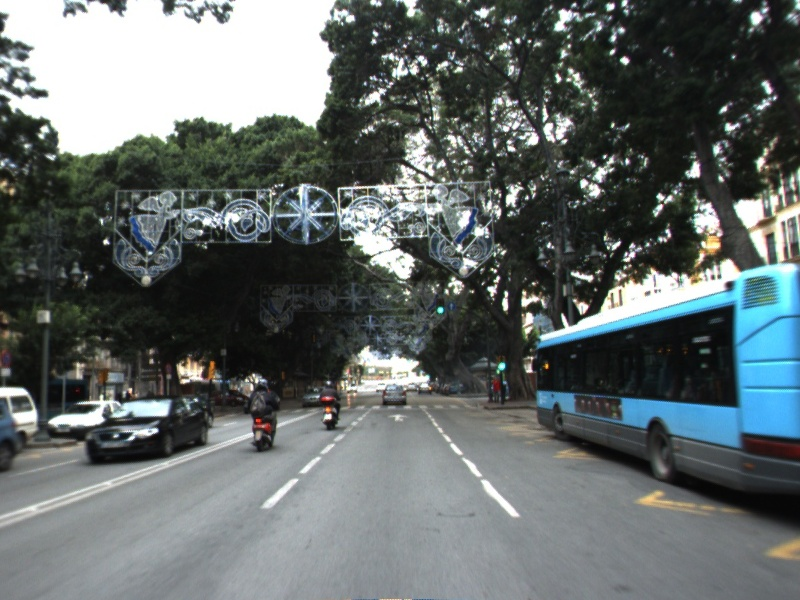STRAIGHT: (386, 412, 410, 423)
